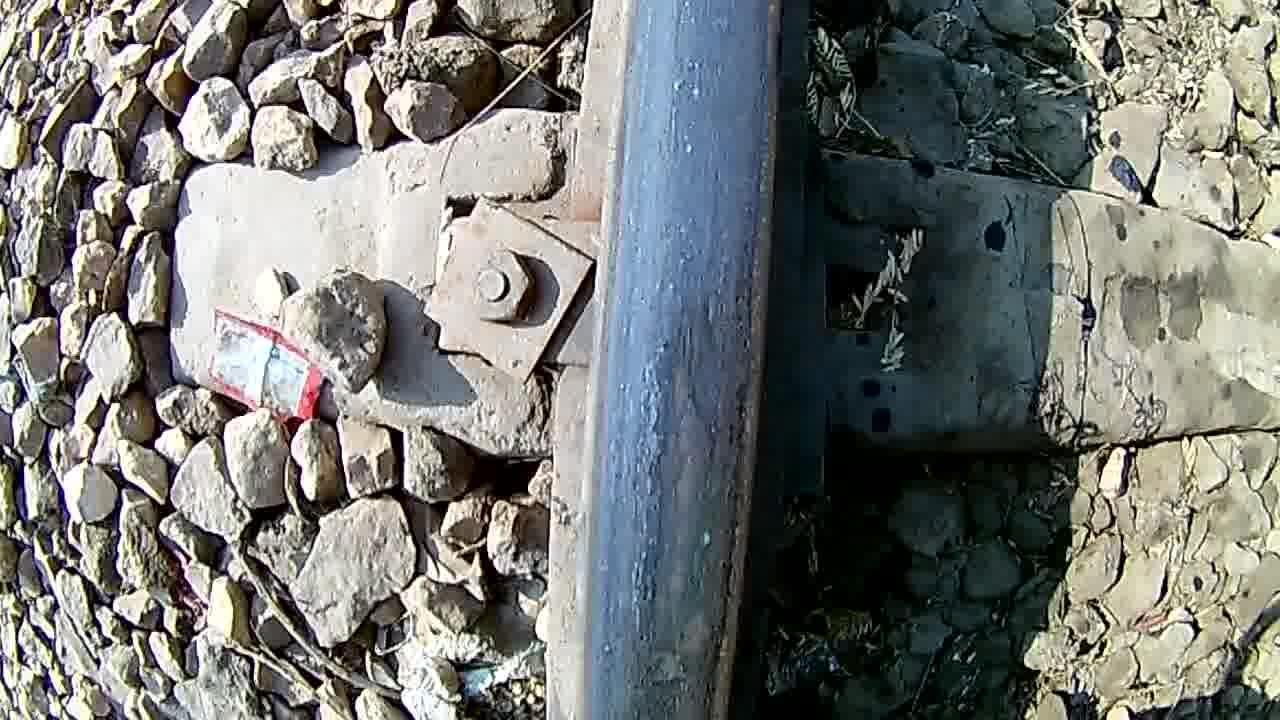crack: (601, 239, 764, 720)
